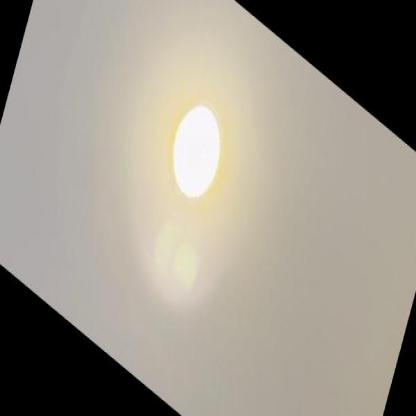light_on: (151, 61, 246, 232)
